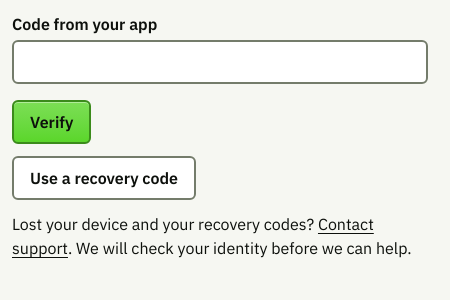
Test: two-step login › shows a wrong code in plain words and does not sign in
Type "000000" into the field labelled "Code from your app".
click(220, 62); type("000000")  # box [12,40,428,84]
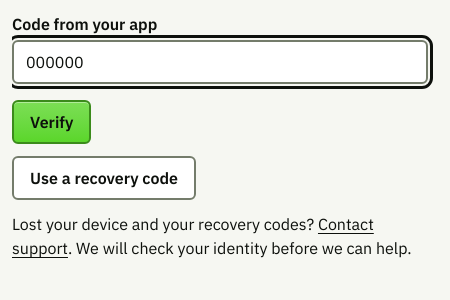
Click the button "Verify".
click(52, 122)  # box [12,100,91,144]
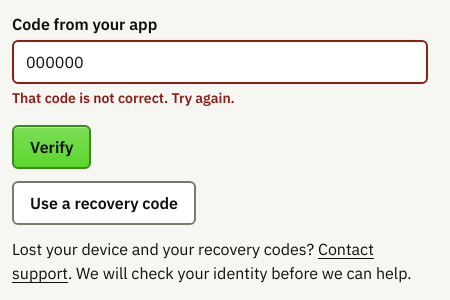
Expected: the text "That code is not correct. Try again." is shown, [11,88,235,107]
